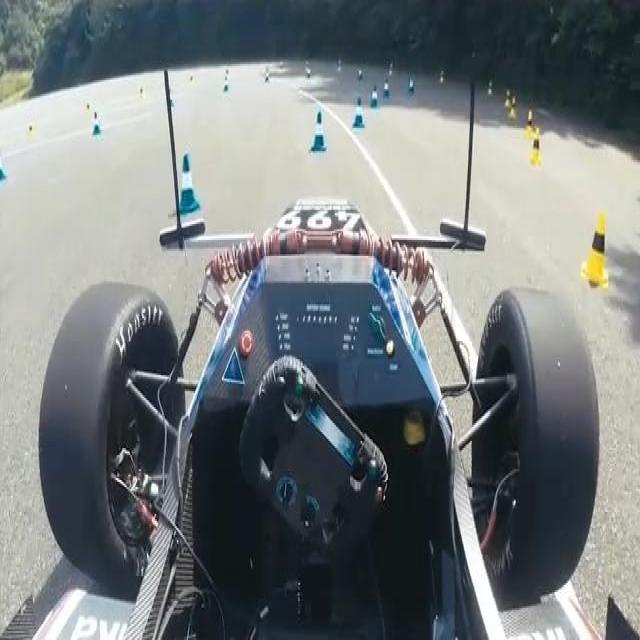blue_cone: (176, 154, 202, 217), (311, 112, 326, 153), (352, 94, 366, 128), (93, 112, 102, 137), (370, 85, 379, 108)
yellow_cone: (581, 210, 609, 288), (528, 128, 543, 166), (523, 110, 536, 141), (508, 96, 517, 120)
